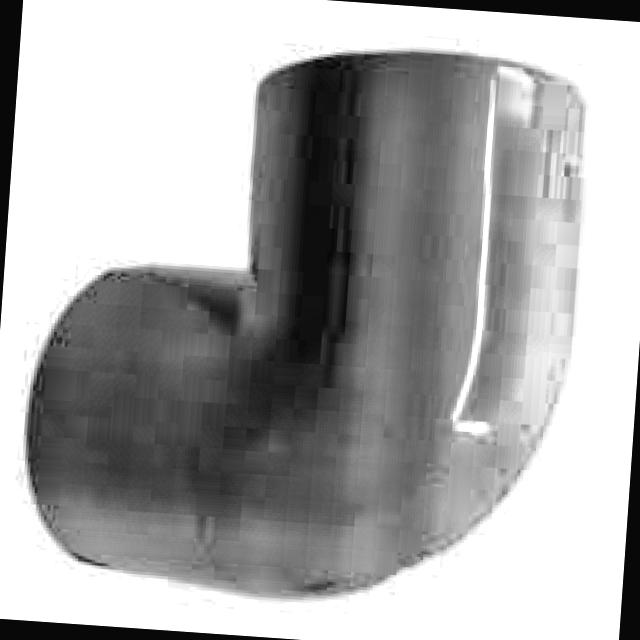ELBOW90: (19, 46, 588, 601)
